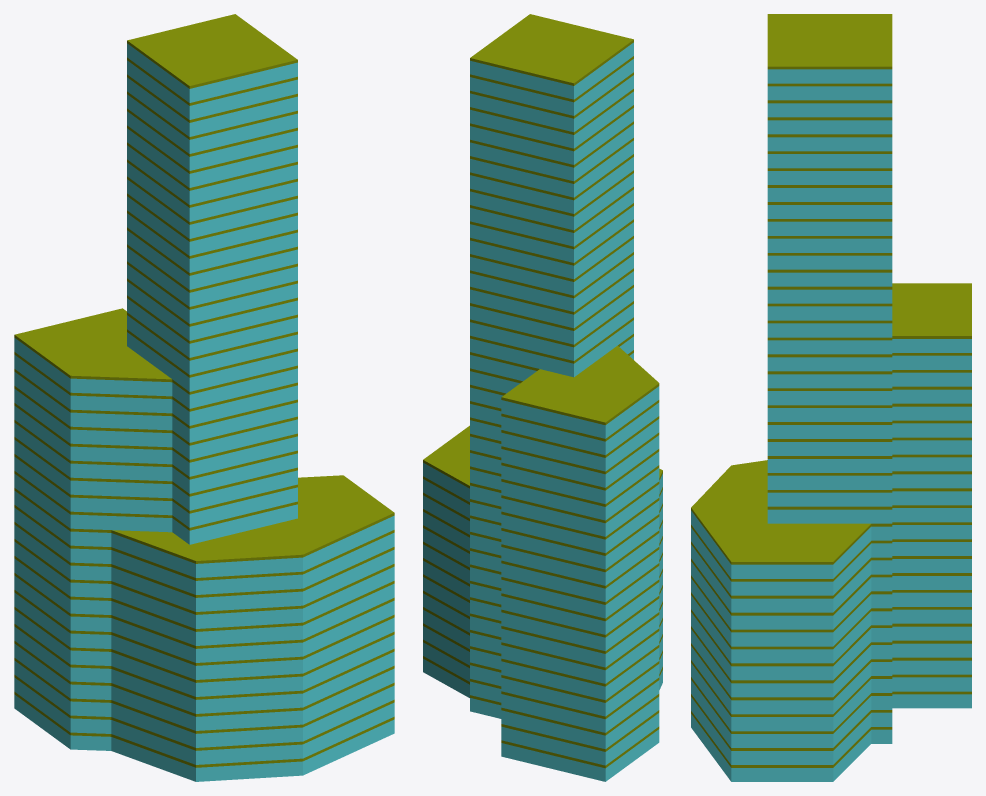
The model's file is backgroundbuilding2.fbx.
3 views of the same model, side by side, from view 1: azimuth 30°, elevation 25°; view 2: azimuth 150°, elevation 25°; view 3: azimuth 270°, elevation 25° (orthographic). The views are drawn at different scales.
Parts seen in each view (by area): view 1: Cube; view 2: Cube; view 3: Cube.
Part boxes in pixels (x1,y1,x2,y2): Cube: [14, 14, 394, 781]; Cube: [423, 14, 662, 781]; Cube: [691, 14, 971, 781].
Bounding box in the file's own units: 4794 × 12000 × 4509.
